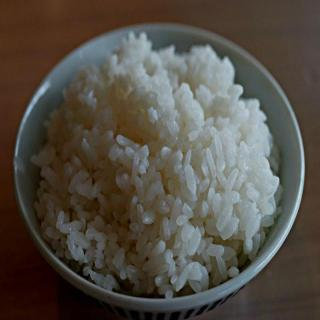Nasi: (29, 30, 285, 300)
